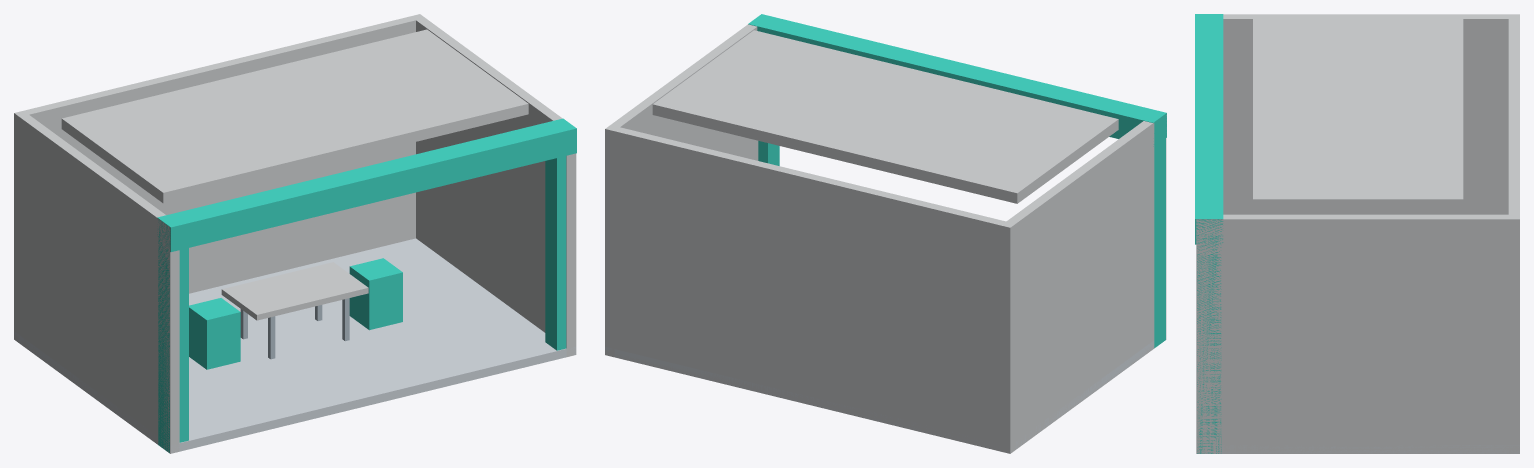
3 views of the same model, side by side, from view 1: azimuth 30°, elevation 25°; view 2: azimuth 150°, elevation 25°; view 3: azimuth 270°, elevation 25° (orthographic). The views are drawn at different scales.
Visible parts, largest first — view 1: Exhibition Booth Concept; view 2: Exhibition Booth Concept; view 3: Exhibition Booth Concept.
Part boxes in pixels (x1,y1,x2,y2): Exhibition Booth Concept: [14, 14, 576, 453]; Exhibition Booth Concept: [605, 14, 1166, 453]; Exhibition Booth Concept: [1195, 14, 1519, 453].
Size of the model in its own units: 6 by 3.34 by 4.02.
